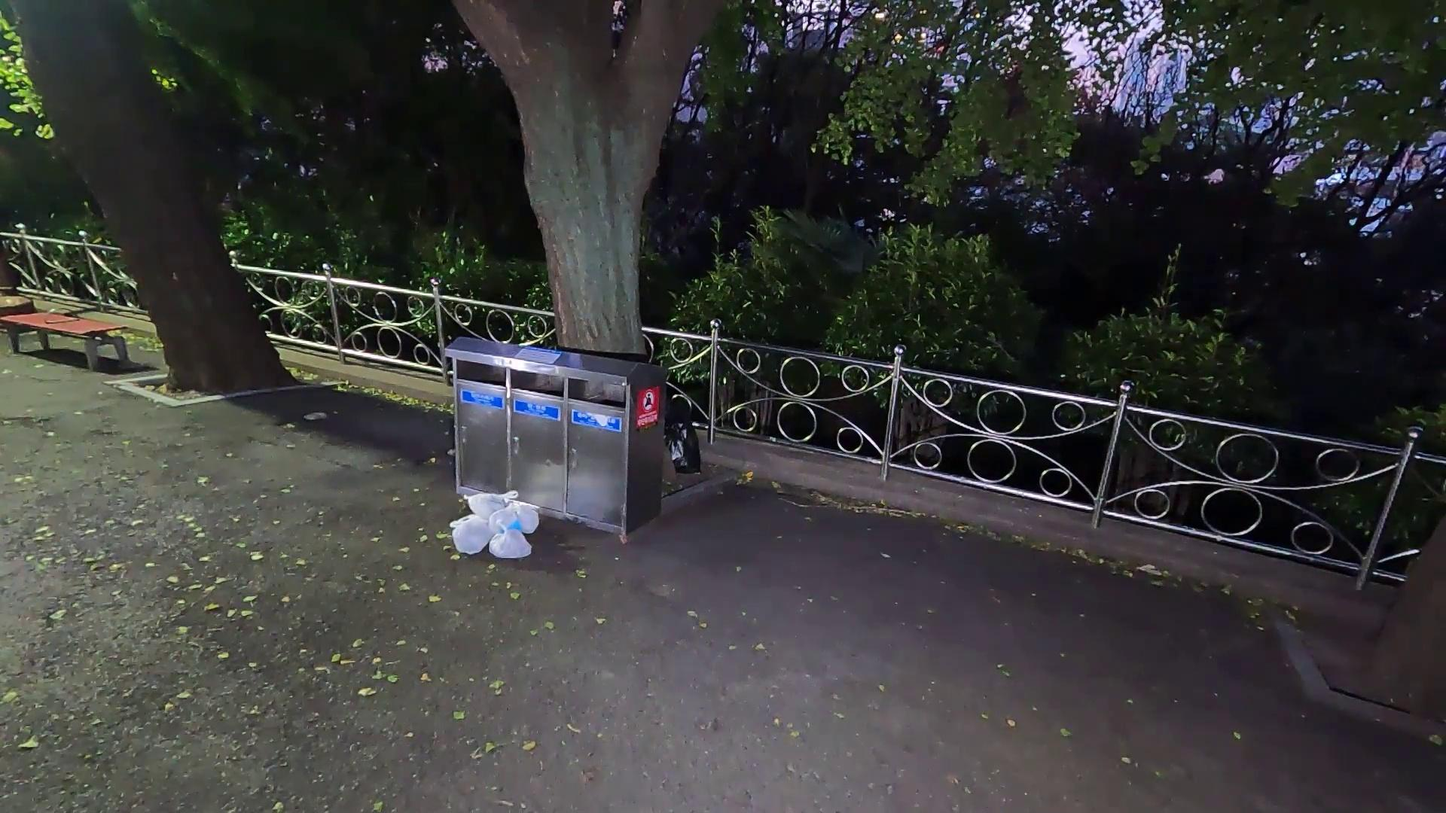trash: (667, 400, 704, 478), (462, 488, 518, 527), (490, 497, 541, 537), (488, 517, 532, 560), (448, 515, 494, 556)
